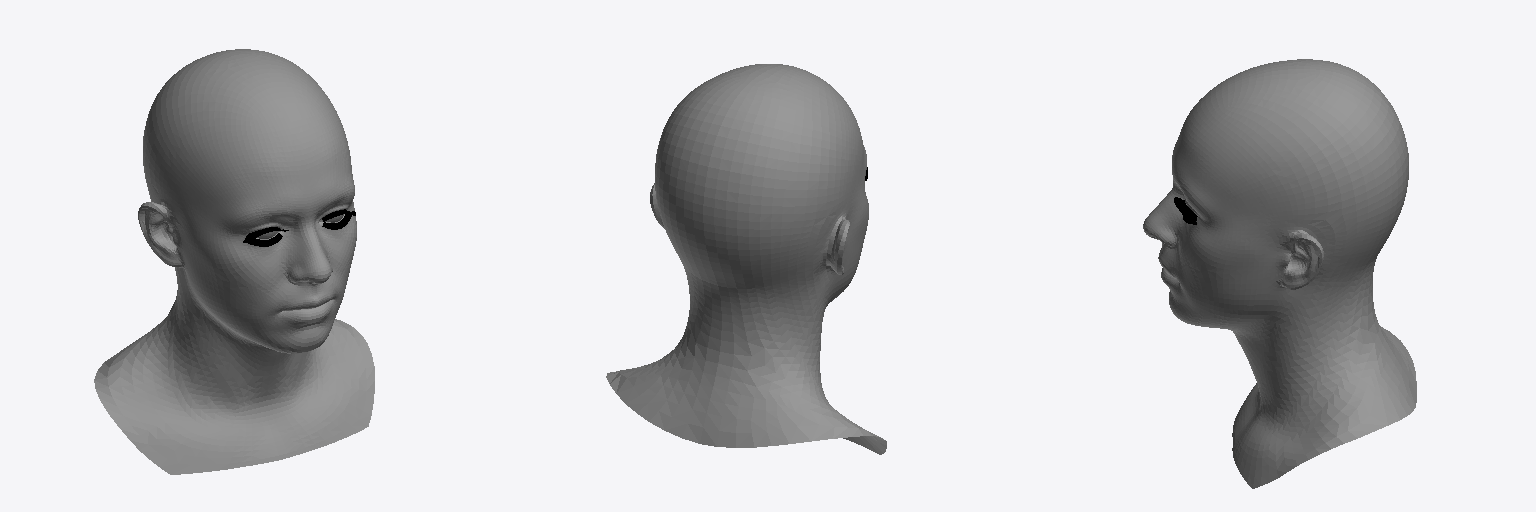
Rendered from identity042.obj.
3 renders of one model, left to right at view 1: azimuth 30°, elevation 25°; view 2: azimuth 150°, elevation 25°; view 3: azimuth 270°, elevation 25°, orthographic.
Bounding box in the file's own units: 24.86 × 33.77 × 22.38.